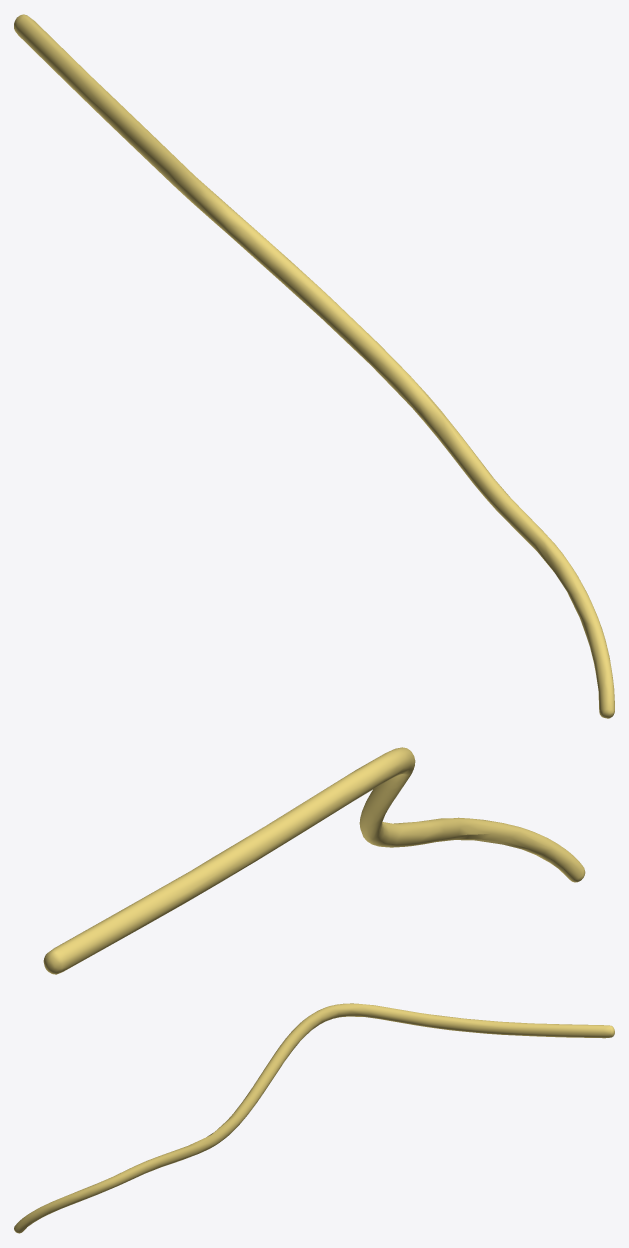
Rendered from Trunk of left maxillary nerve.fbx.
3 views of the same model, one above another, from view 1: azimuth 30°, elevation 25°; view 2: azimuth 150°, elevation 25°; view 3: azimuth 270°, elevation 25° (orthographic). The views are drawn at different scales.
Parts seen in each view (by area): view 1: Trunk of left maxillary nerve; view 2: Trunk of left maxillary nerve; view 3: Trunk of left maxillary nerve.
Boxes of the visible parts, box(x1,y1,x2,y2) form: Trunk of left maxillary nerve: box(14, 14, 614, 718); Trunk of left maxillary nerve: box(43, 747, 585, 974); Trunk of left maxillary nerve: box(14, 1003, 614, 1233).
Size of the model in its own units: 1.83 by 3.86 by 10.64.
